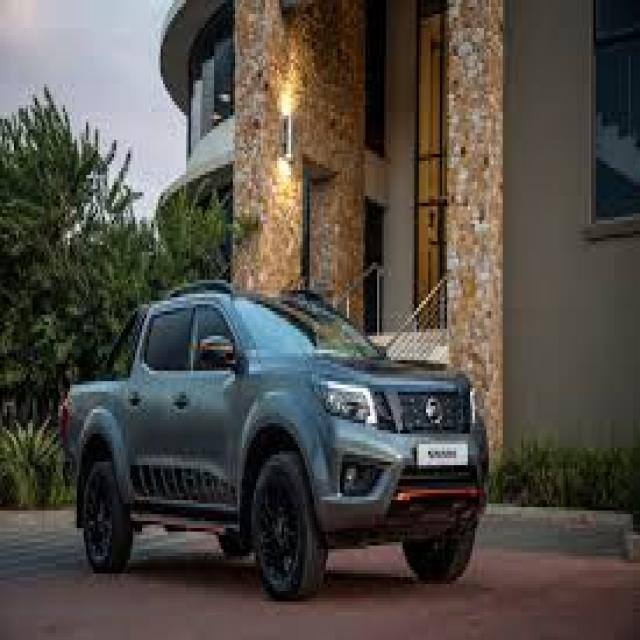Pickup Trucks: (63, 286, 491, 602)
